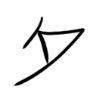ta: (9, 13, 87, 91)
